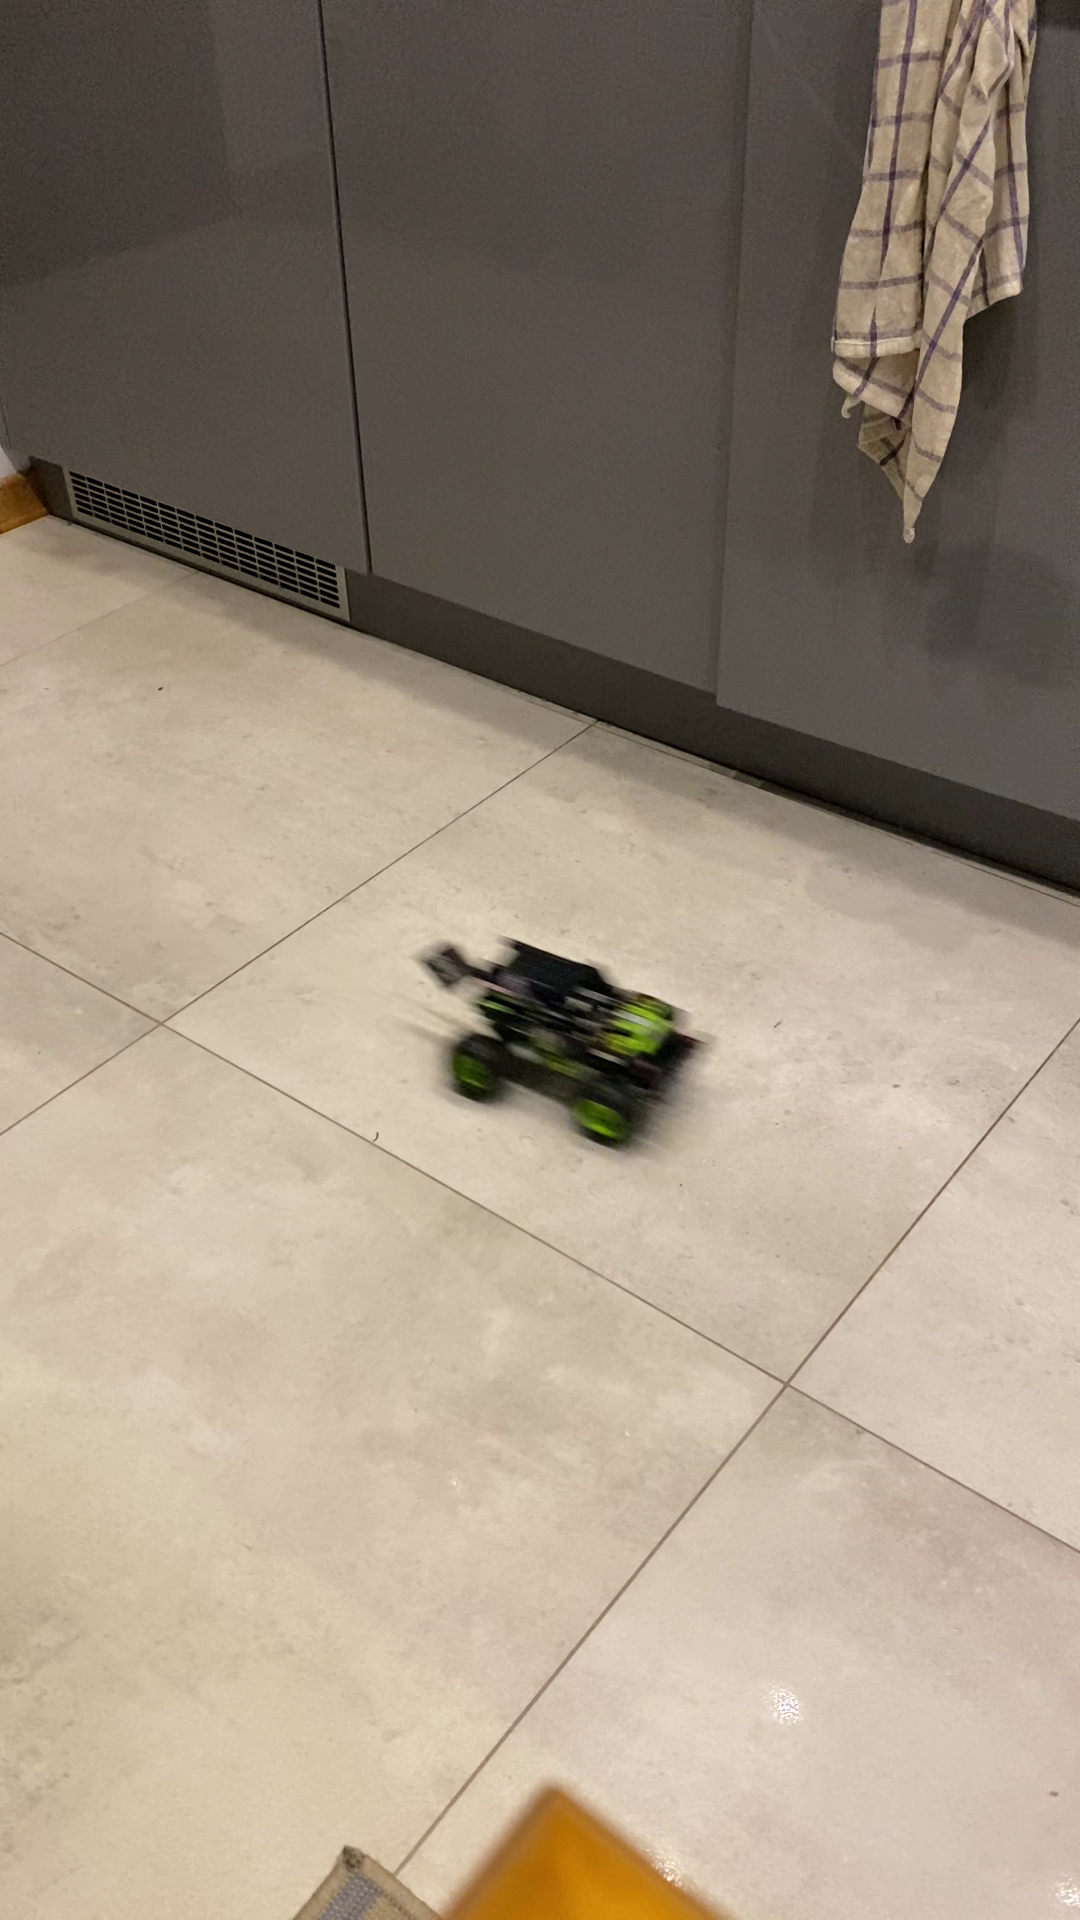car: (436, 940, 713, 1145)
